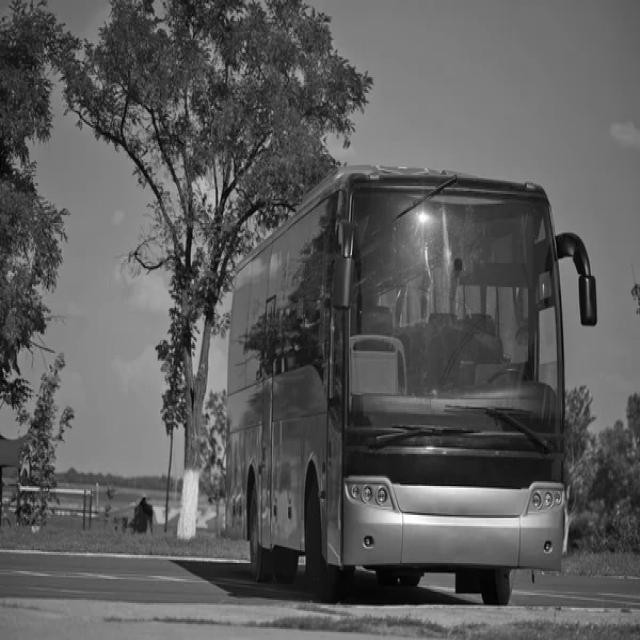Bus: (226, 167, 599, 605)
Tree: (63, 2, 371, 538), (17, 354, 74, 527)
